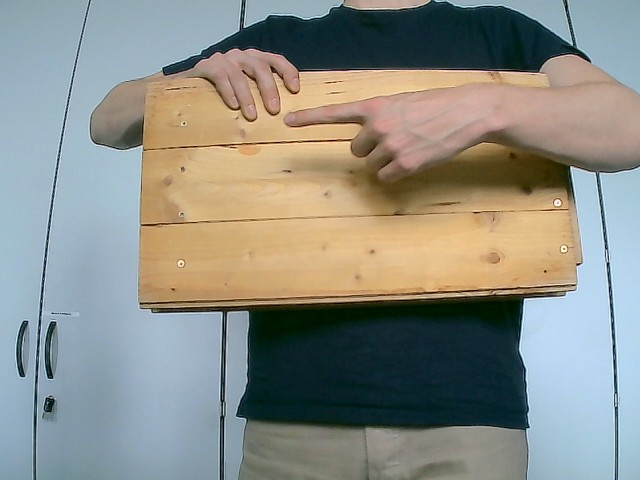no_gesture: (170, 46, 301, 122)
right: (283, 80, 508, 186)
